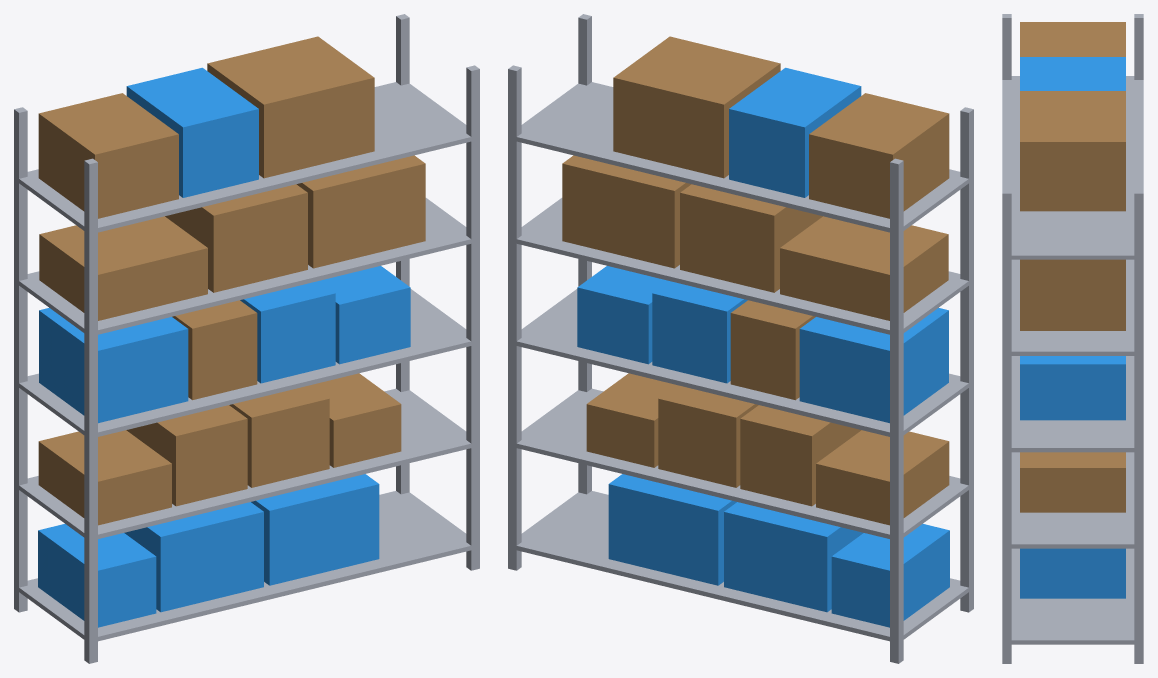
Rendered from mal-023.glb.
3 views of the same model, side by side, from view 1: azimuth 30°, elevation 25°; view 2: azimuth 150°, elevation 25°; view 3: azimuth 270°, elevation 25° (orthographic). The views are drawn at different scales.
Visible parts, largest first — view 1: cardboard, steel, plastic_blue; view 2: cardboard, steel, plastic_blue; view 3: steel, cardboard, plastic_blue.
Boxes of the visible parts, x1,y1,x2,y2 form: cardboard: [38, 36, 425, 525]; steel: [14, 14, 479, 663]; plastic_blue: [38, 67, 410, 627]; cardboard: [562, 36, 949, 525]; steel: [508, 14, 973, 663]; plastic_blue: [577, 67, 949, 627]; steel: [1002, 14, 1143, 663]; cardboard: [1020, 22, 1125, 512]; plastic_blue: [1020, 57, 1125, 598].
Bounding box in the file's own units: 1.8 × 2.23 × 0.6.
